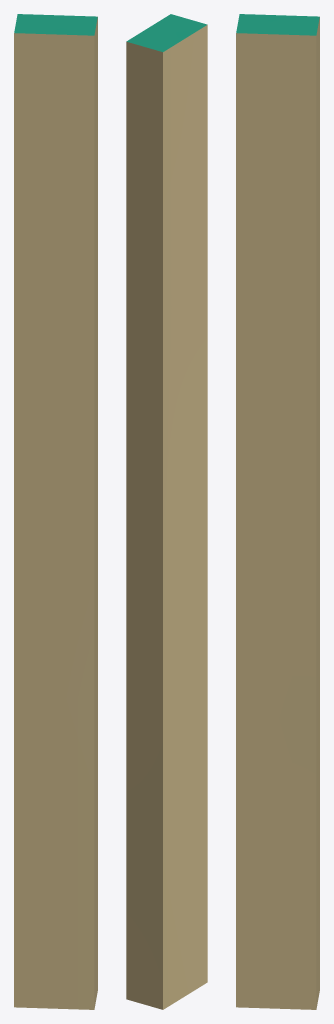
The model's file is Blocks-138.fbx.
3 renders of one model, left to right at view 1: azimuth 90°, elevation 25°; view 2: azimuth 150°, elevation 25°; view 3: azimuth 270°, elevation 25°, orthographic.
Visible parts, largest first — view 1: Blocks-138; view 2: Blocks-138; view 3: Blocks-138.
Boxes of the visible parts, left/top/right/bottom form: Blocks-138: left=14, top=14, right=97, bottom=1009; Blocks-138: left=126, top=14, right=207, bottom=1009; Blocks-138: left=236, top=14, right=319, bottom=1009.
Size of the model in its own units: 1595 by 33361 by 2598.
